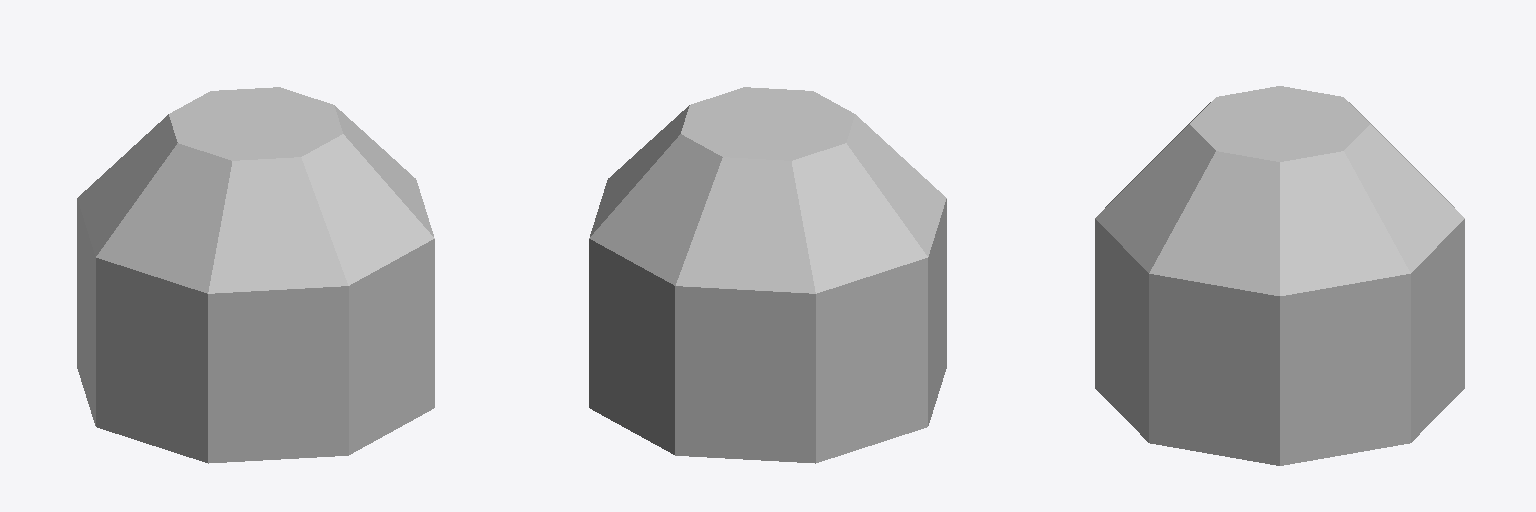
The model's file is room.obj.
3 renders of one model, left to right at view 1: azimuth 30°, elevation 25°; view 2: azimuth 150°, elevation 25°; view 3: azimuth 270°, elevation 25°, orthographic.
Parts seen in each view (by area): view 1: 실린더.001; view 2: 실린더.001; view 3: 실린더.001.
Part boxes in pixels (x1,y1,x2,y2): 실린더.001: (77, 87, 434, 463); 실린더.001: (589, 87, 946, 463); 실린더.001: (1095, 86, 1464, 465).
Bounding box in the file's own units: 82.67 × 65.03 × 82.67.